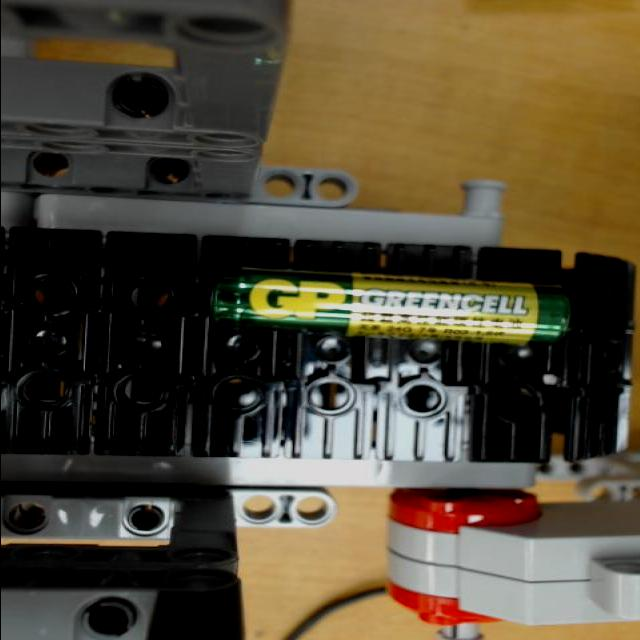AAA: (212, 268, 572, 346)
